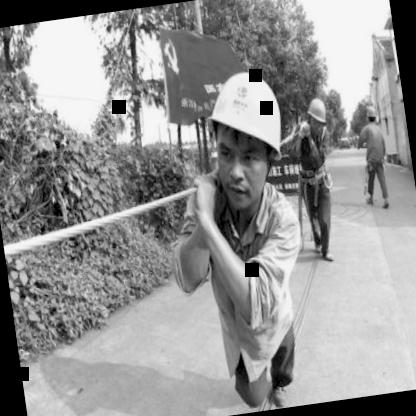helmet: (186, 48, 302, 222), (301, 92, 331, 138), (362, 100, 381, 128)
